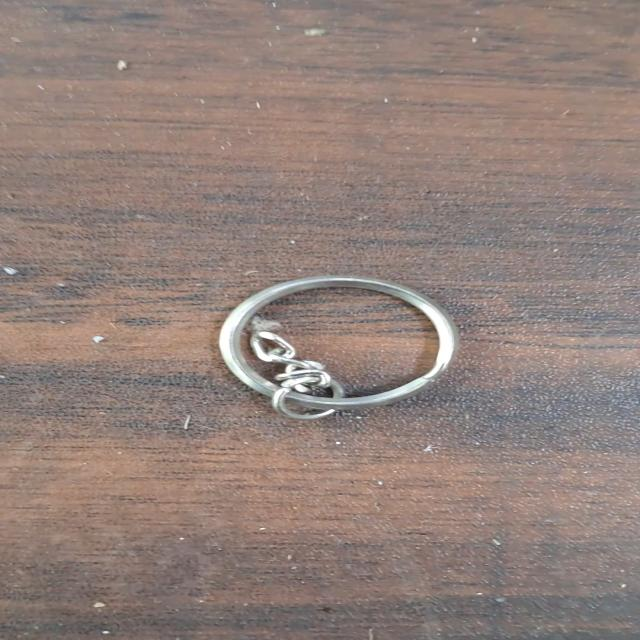Anorganik: (207, 270, 495, 423)
